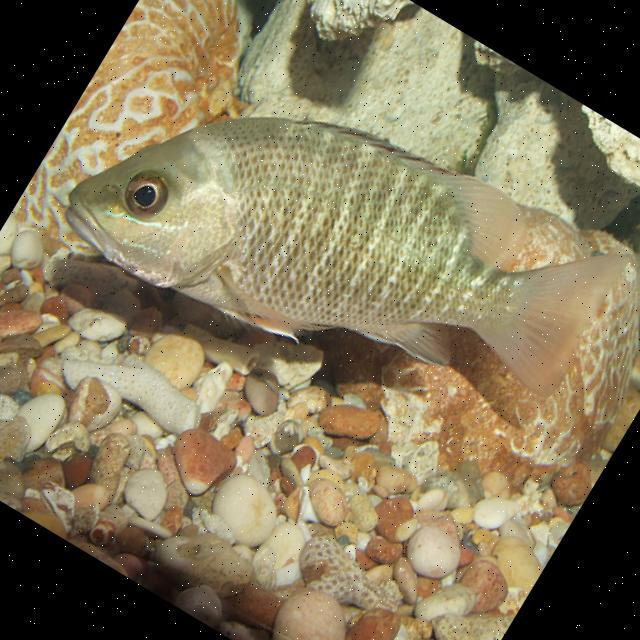ikan: (47, 0, 637, 496)
